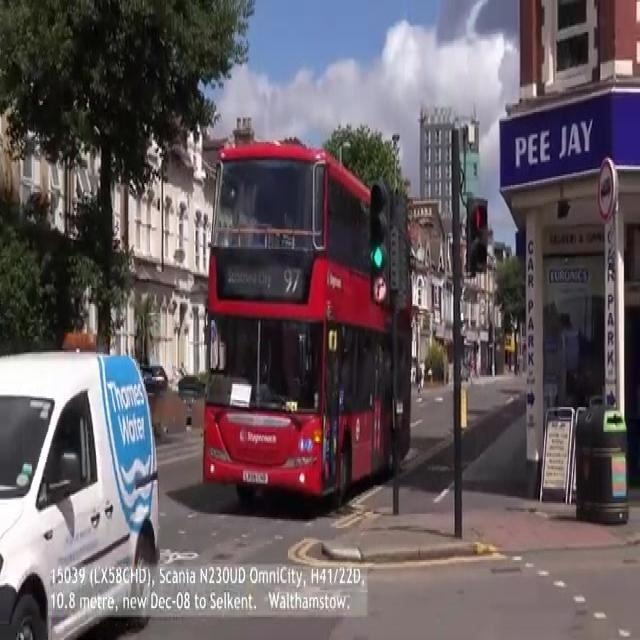Bus: (194, 135, 412, 503)
